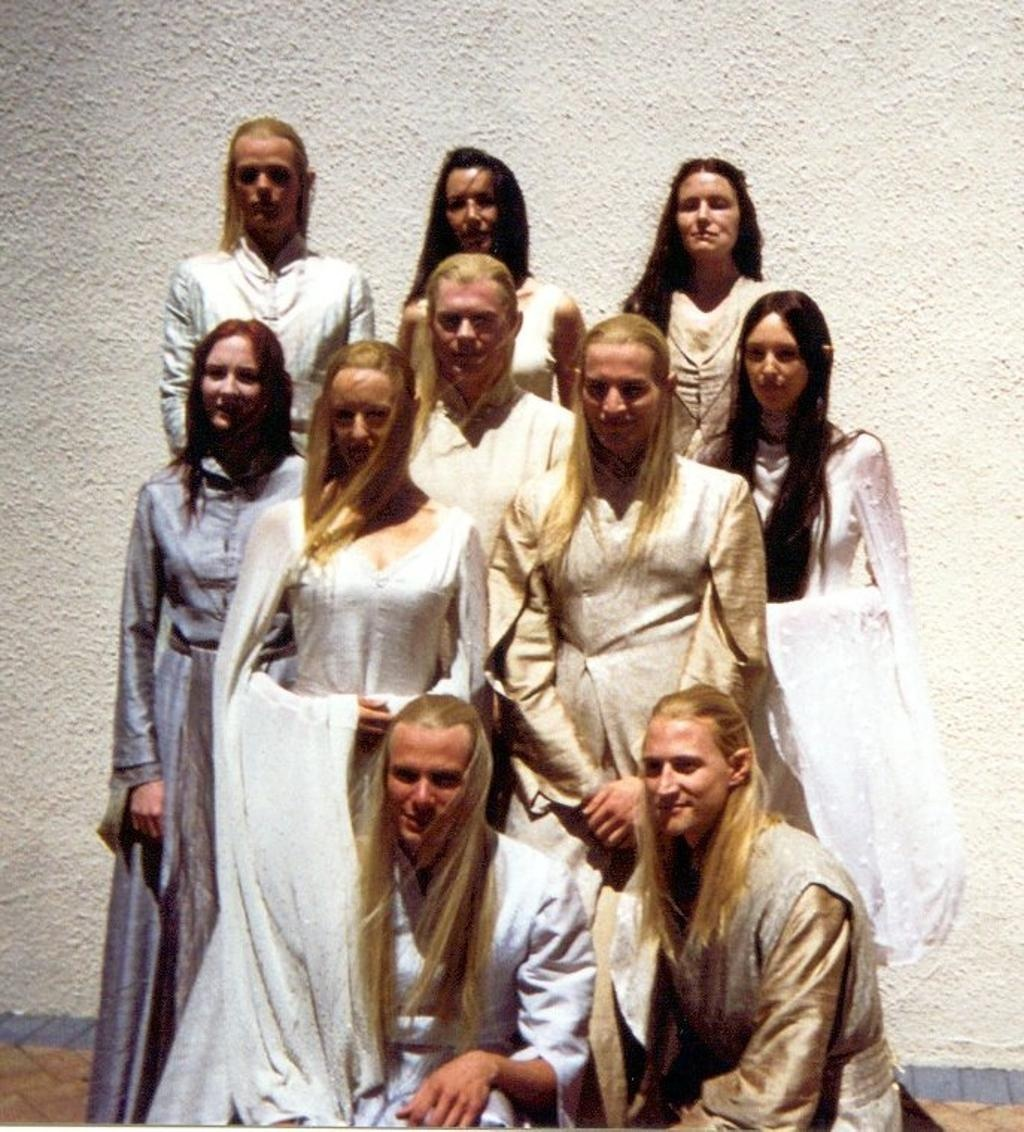human_face: (386, 721, 474, 848), (640, 719, 730, 837), (581, 344, 661, 452), (327, 370, 405, 476), (433, 279, 509, 387), (232, 135, 302, 231), (743, 313, 809, 413), (201, 337, 267, 429), (446, 168, 508, 256), (676, 173, 740, 256)
